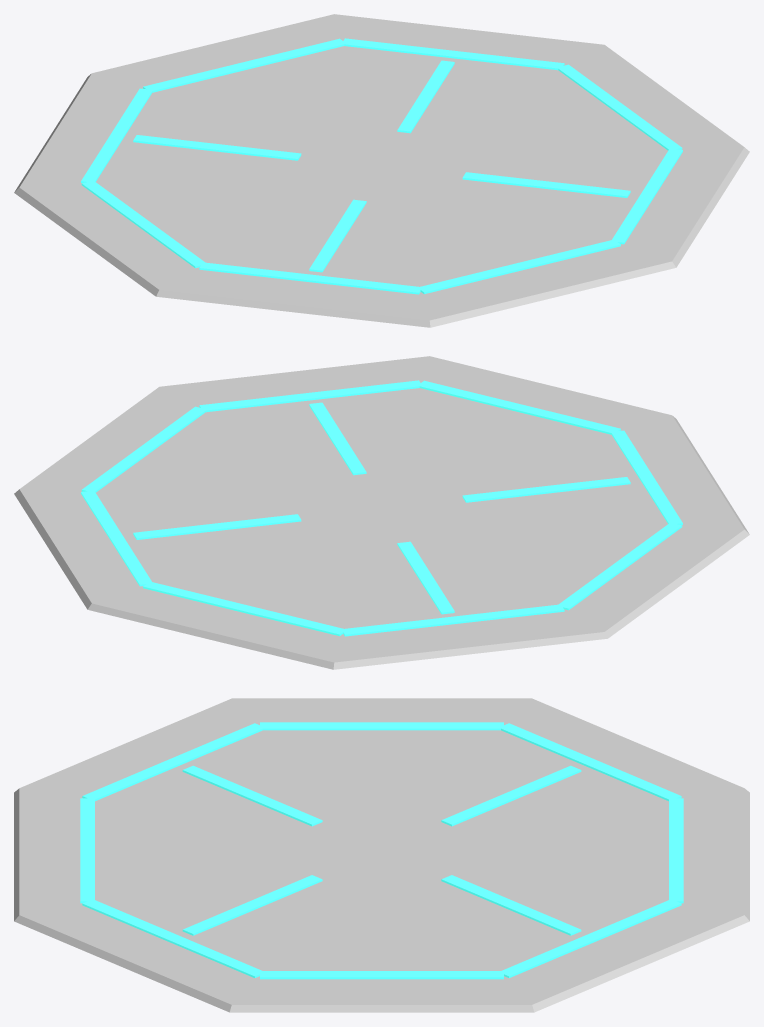
Rendered from portal_plate.glb.
The picture shows the model from 3 angles, top to bottom: view 1: azimuth 30°, elevation 25°; view 2: azimuth 150°, elevation 25°; view 3: azimuth 270°, elevation 25°; orthographic projection. The views are drawn at different scales.
Parts seen in each view (by area): view 1: portal_plate; view 2: portal_plate; view 3: portal_plate.
Boxes of the visible parts, <box> form: portal_plate: <box>14,14,749,327</box>; portal_plate: <box>14,356,749,669</box>; portal_plate: <box>14,698,749,1012</box>.
Size of the model in its own units: 2.49 by 0.027 by 2.49.
